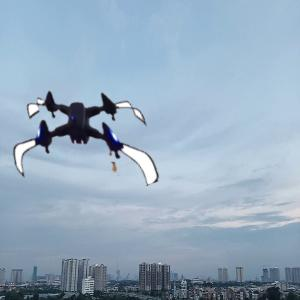drone: (8, 67, 151, 210)
